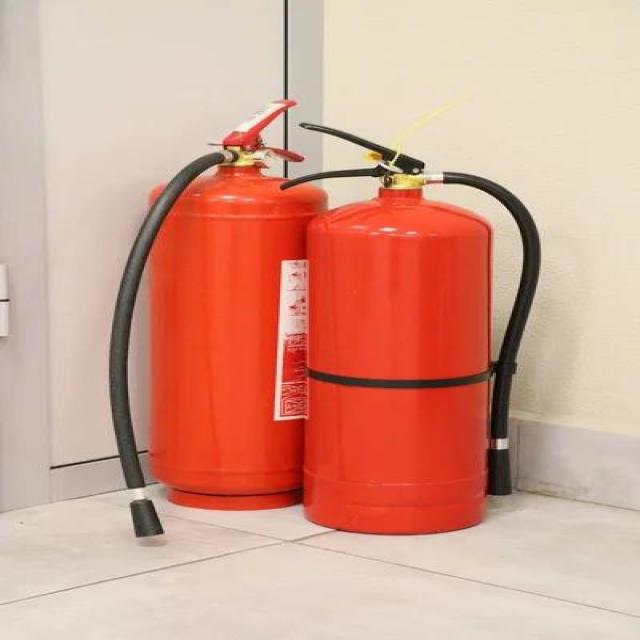fire_extinguisher: (272, 117, 550, 542), (93, 93, 339, 550)
